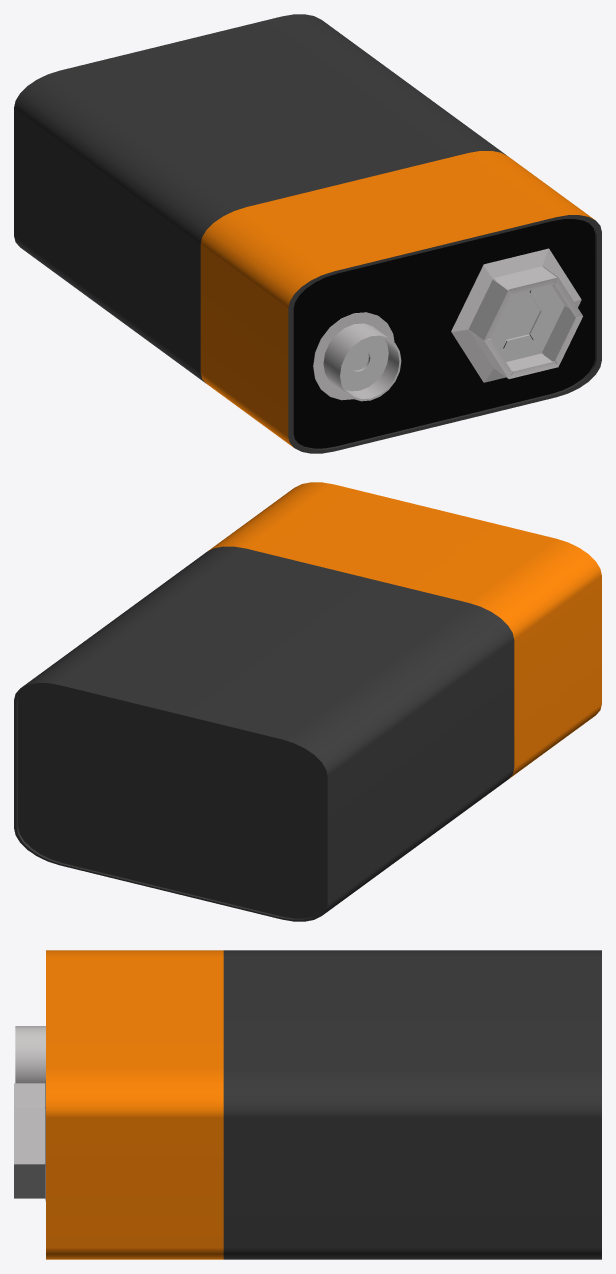
Rendered from battery.glb.
3 renders of one model, top to bottom at view 1: azimuth 30°, elevation 25°; view 2: azimuth 150°, elevation 25°; view 3: azimuth 270°, elevation 25°, orthographic.
Visible parts, largest first — view 1: 9v.004; view 2: 9v.004; view 3: 9v.004.
Boxes of the visible parts, <box> form: 9v.004: <box>14,14,601,453</box>; 9v.004: <box>14,482,601,921</box>; 9v.004: <box>14,950,601,1259</box>.
Size of the model in its own units: 1.65 by 0.9037 by 2.64.
